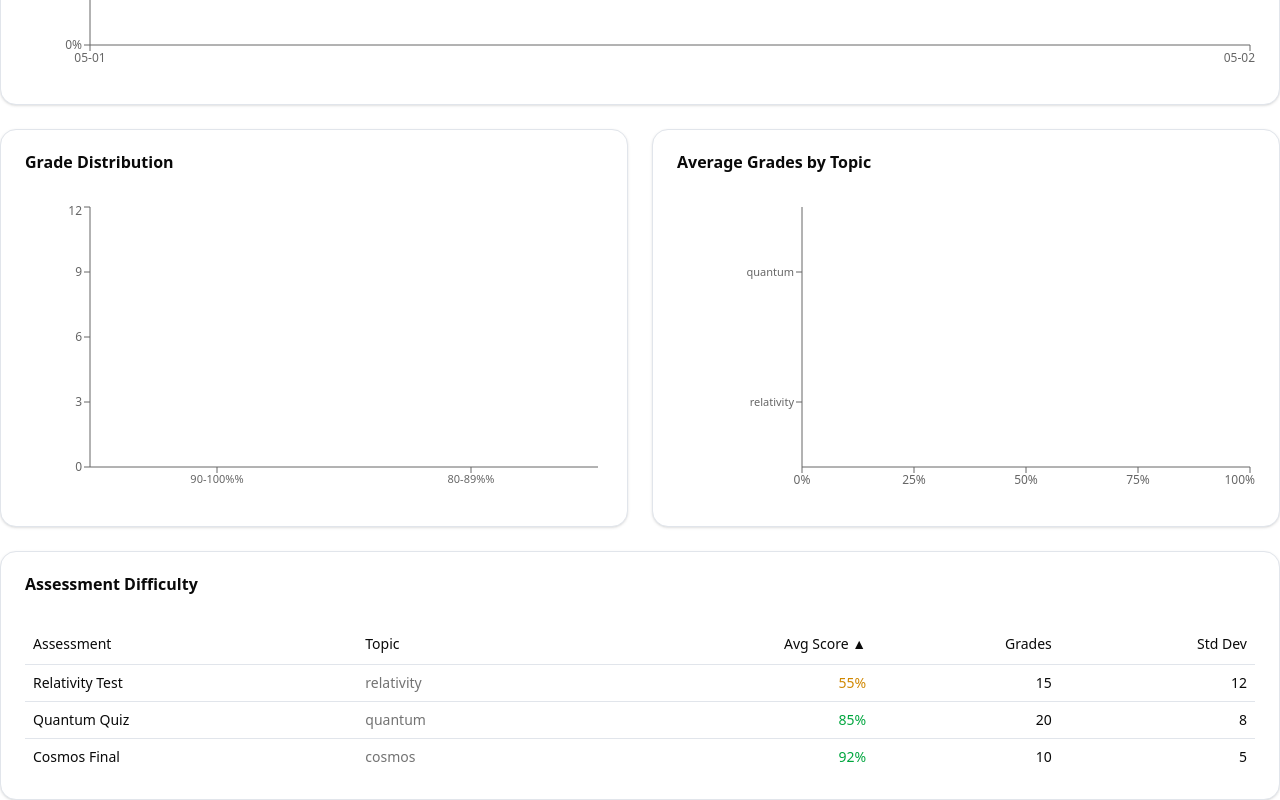
AdminGradesPage › sorts by title on header click
This screenshot has width=1280, height=800.
(page scrolled)
Step 1. Click the column heading "Assessment" → {"x": 72, "y": 643}, box [25,624,357,664]
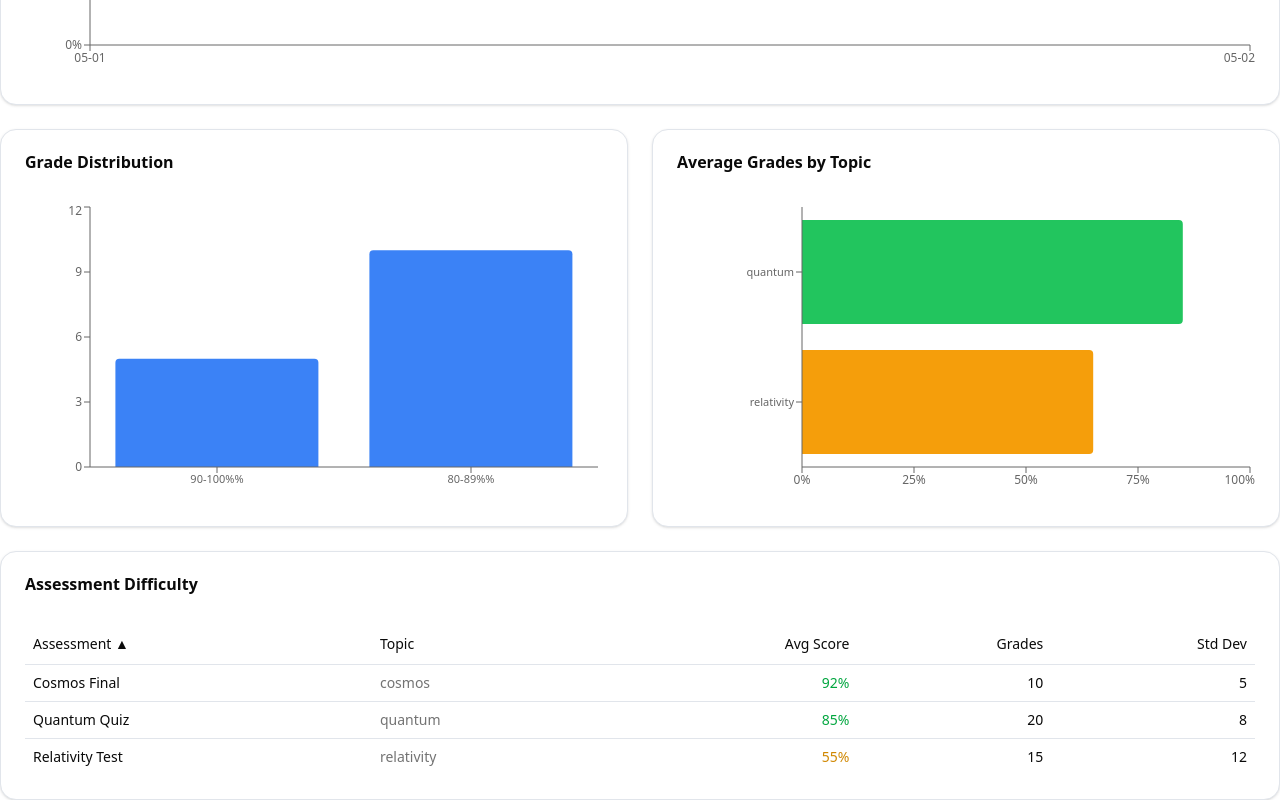
Expected: the cell "Cosmos Final" is shown, [25,664,372,701]
